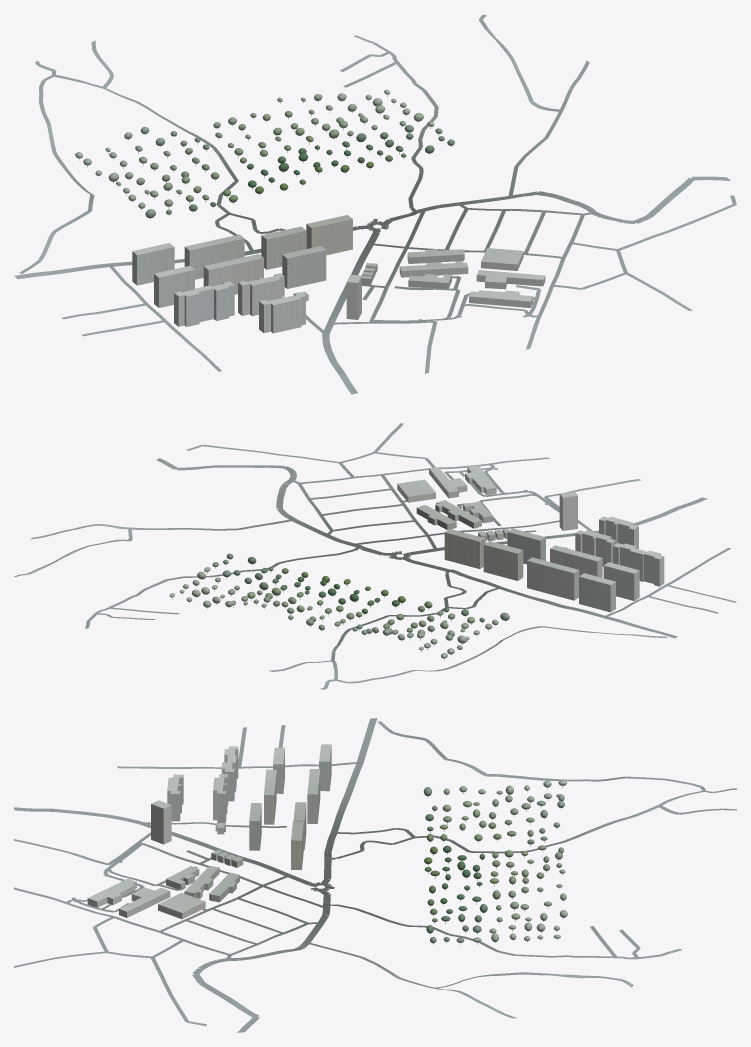
3 renders of one model, top to bottom at view 1: azimuth 30°, elevation 25°; view 2: azimuth 150°, elevation 25°; view 3: azimuth 270°, elevation 25°, orthographic. The views are drawn at different scales.
Parts seen in each view (by area): view 1: osm-roads, planting_northern-woodland, osm-building-561916779, osm-building-561916783, osm-building-561916785, osm-building-561916776, osm-building-561916786, osm-building-561916778, osm-building-561916775, osm-building-561916780, osm-building-561916784, osm-building-561916777 (+6 smaller); view 2: osm-roads, planting_northern-woodland, osm-building-561916776, osm-building-561916779, osm-building-561916784, osm-building-561916786, osm-building-561916775, osm-building-561916778, osm-building-561916777, osm-building-561916780, osm-building-561916783, osm-building-561916785 (+6 smaller); view 3: osm-roads, planting_northern-woodland, osm-building-1491462764, osm-building-481218321, osm-building-807984674, osm-building-481218320, osm-building-561916780, osm-building-561916776, osm-building-561916779, osm-building-561916778, osm-building-561916785, osm-building-561916786 (+3 smaller).
Part boxes in pixels (x1,y1,x2,y2): osm-roads: (14,14,736,394); planting_northern-woodland: (75,89,454,219); osm-building-561916779: (174,281,234,326); osm-building-561916783: (282,246,326,288); osm-building-561916785: (259,292,305,333); osm-building-561916776: (184,234,244,279); osm-building-561916786: (306,215,352,255); osm-building-561916778: (203,254,263,294); osm-building-561916775: (132,243,174,285); osm-building-561916780: (238,273,284,316); osm-building-561916784: (261,226,306,269); osm-building-561916777: (154,265,194,307); osm-roads: (14,423,736,689); planting_northern-woodland: (169,553,509,660); osm-building-561916776: (527,557,579,600); osm-building-561916779: (613,543,664,586); osm-building-561916784: (483,541,523,580); osm-building-561916786: (444,529,485,568); osm-building-561916775: (579,573,615,612); osm-building-561916778: (550,545,602,577); osm-building-561916777: (603,562,639,600); osm-building-561916780: (575,530,615,566); osm-building-561916783: (507,528,545,564); osm-building-561916785: (599,516,638,549); osm-roads: (14,718,736,1032); planting_northern-woodland: (423,780,567,944); osm-building-1491462764: (151,800,171,844); osm-building-481218321: (119,887,170,917); osm-building-807984674: (158,892,205,919); osm-building-481218320: (87,878,136,907); osm-building-561916780: (213,774,228,822); osm-building-561916776: (307,769,320,823); osm-building-561916779: (221,746,238,801); osm-building-561916778: (264,769,276,824); osm-building-561916785: (167,774,183,821); osm-building-561916786: (291,821,303,870).
Bounding box in the file's own units: 900 × 71.18 × 900.
Materials: 11 (1 with a texture image).
